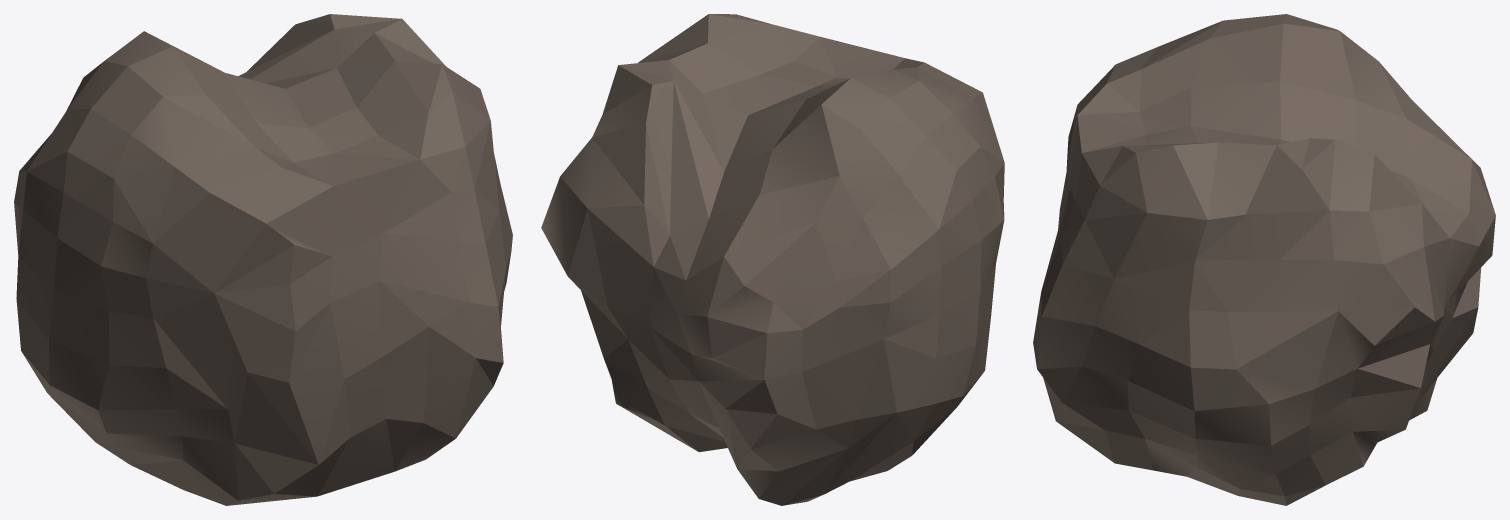
The model's file is Asteroid10.fbx.
3 renders of one model, left to right at view 1: azimuth 30°, elevation 25°; view 2: azimuth 150°, elevation 25°; view 3: azimuth 270°, elevation 25°, orthographic. The views are drawn at different scales.
Parts seen in each view (by area): view 1: Asteroid10; view 2: Asteroid10; view 3: Asteroid10.
Boxes of the visible parts, x1,y1,x2,y2 form: Asteroid10: [14, 14, 512, 505]; Asteroid10: [541, 14, 1004, 505]; Asteroid10: [1033, 14, 1495, 505].
Size of the model in its own units: 61.98 by 61.41 by 62.87.
